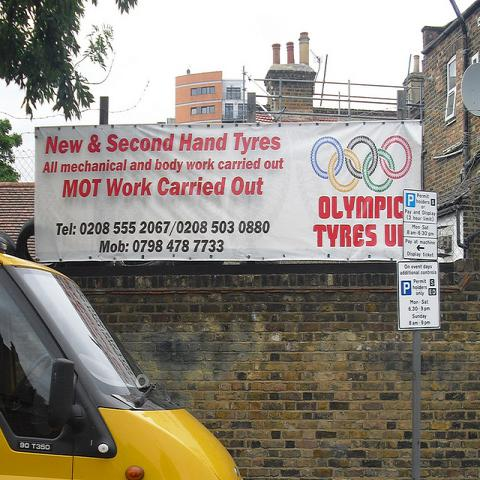car: (2, 243, 242, 474)
truck: (0, 253, 243, 474)
